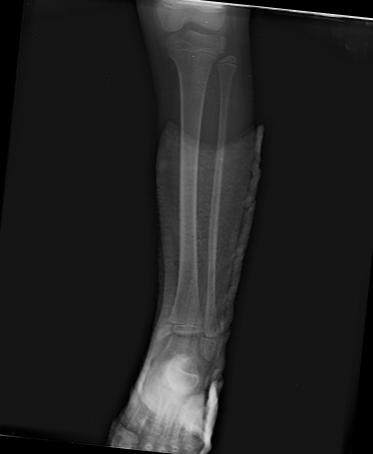fractured: (152, 314, 179, 344)
